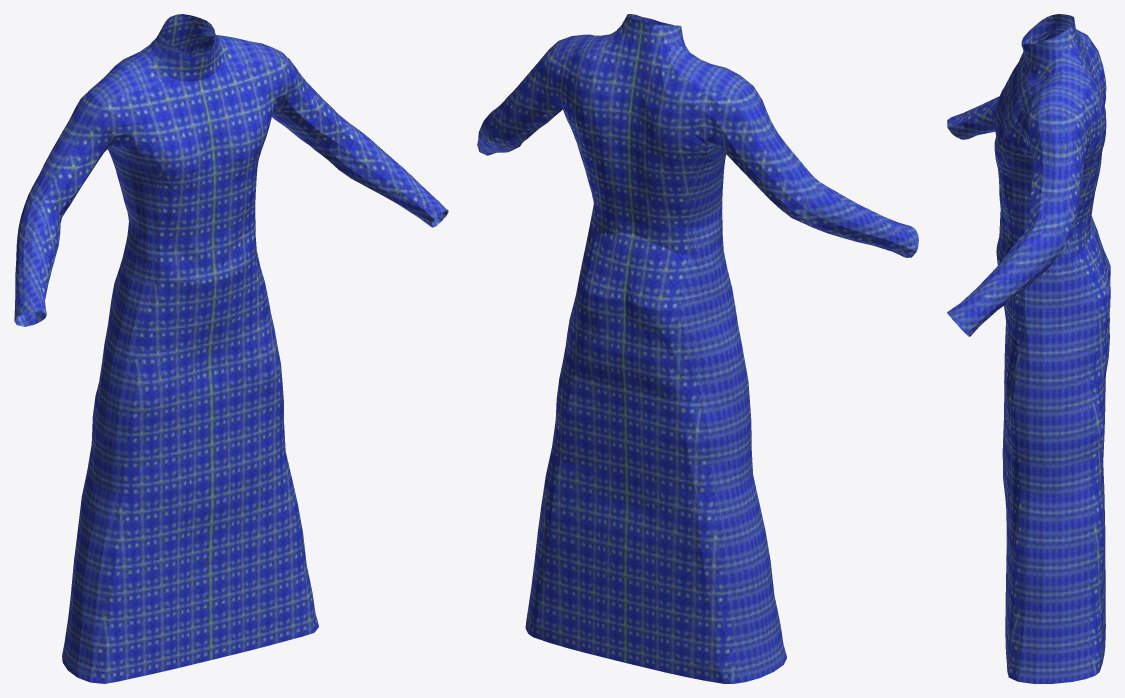
Rendered from mhw_maciekg_wizard_robe.glb.
The picture shows the model from 3 angles, left to right: view 1: azimuth 30°, elevation 25°; view 2: azimuth 150°, elevation 25°; view 3: azimuth 270°, elevation 25°; orthographic projection. The views are drawn at different scales.
Visible parts, largest first — view 1: mhw_maciekg_wizard_robe; view 2: mhw_maciekg_wizard_robe; view 3: mhw_maciekg_wizard_robe.
Part boxes in pixels (x1,y1,x2,y2): mhw_maciekg_wizard_robe: [14, 14, 448, 683]; mhw_maciekg_wizard_robe: [477, 14, 918, 683]; mhw_maciekg_wizard_robe: [947, 14, 1110, 683].
Size of the model in its own units: 1.12 by 1.53 by 0.3733.
Materials: 1 (1 with a texture image).
